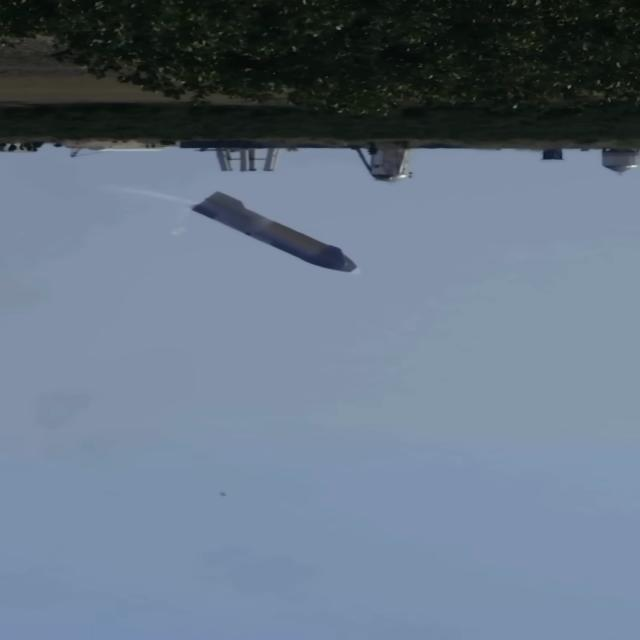missile: (199, 193, 355, 281)
